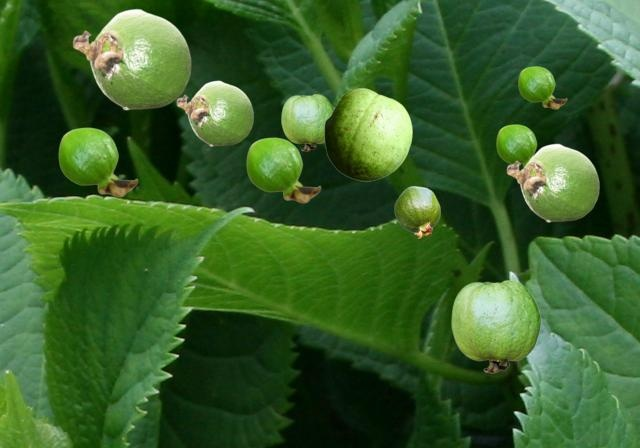guava: (72, 8, 191, 109), (451, 280, 540, 372), (324, 88, 411, 180), (506, 143, 599, 221), (58, 127, 137, 196), (176, 80, 253, 145), (246, 137, 320, 202), (281, 94, 333, 150), (394, 186, 439, 237), (518, 66, 566, 108), (496, 124, 537, 167)
